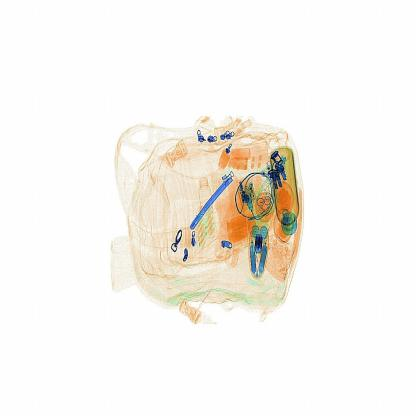pliers: (185, 171, 241, 232)
